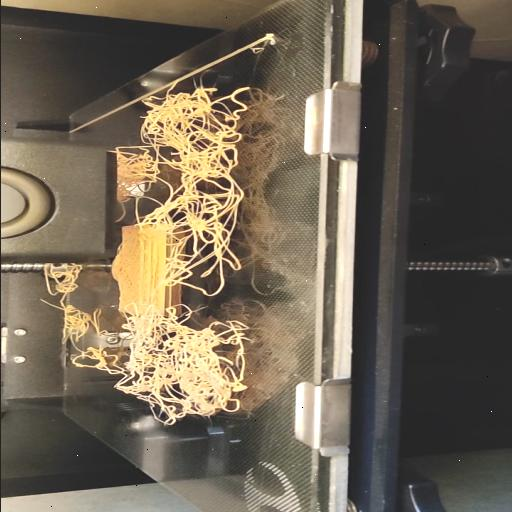spaghetti: (113, 84, 250, 426), (36, 257, 120, 391)
